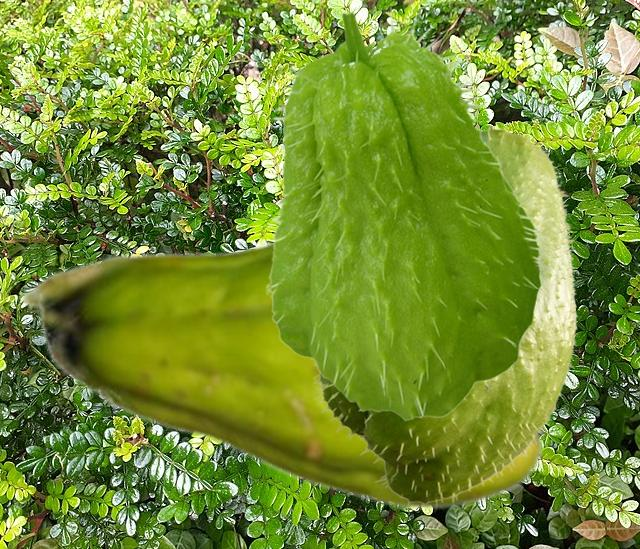sayote: (18, 239, 546, 510), (260, 5, 549, 420), (310, 126, 579, 508)
